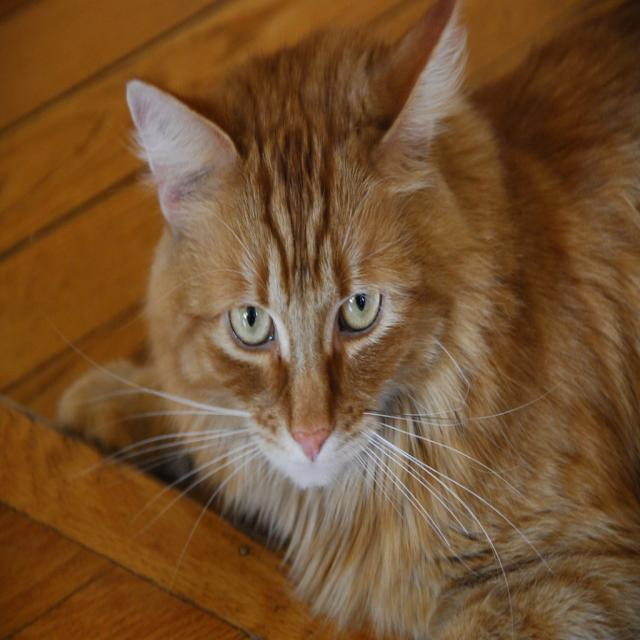Cat: (42, 0, 634, 638)
